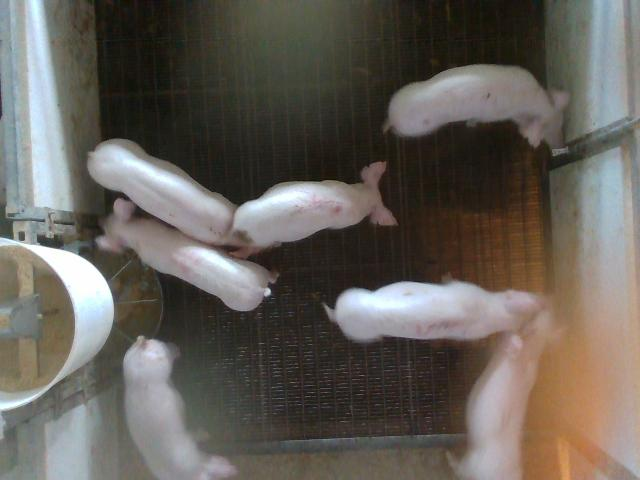pig-3: (325, 281, 542, 342)
pig-4: (96, 198, 275, 311)
pig-5: (230, 163, 396, 248)
